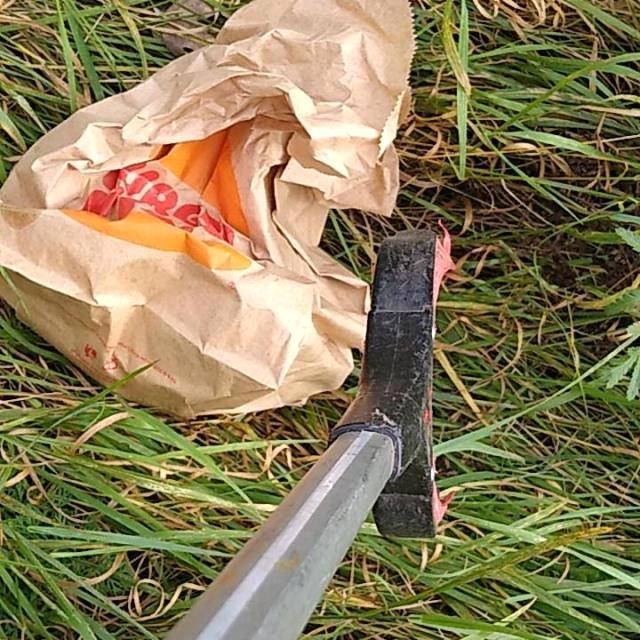Paper: (0, 0, 416, 424)
